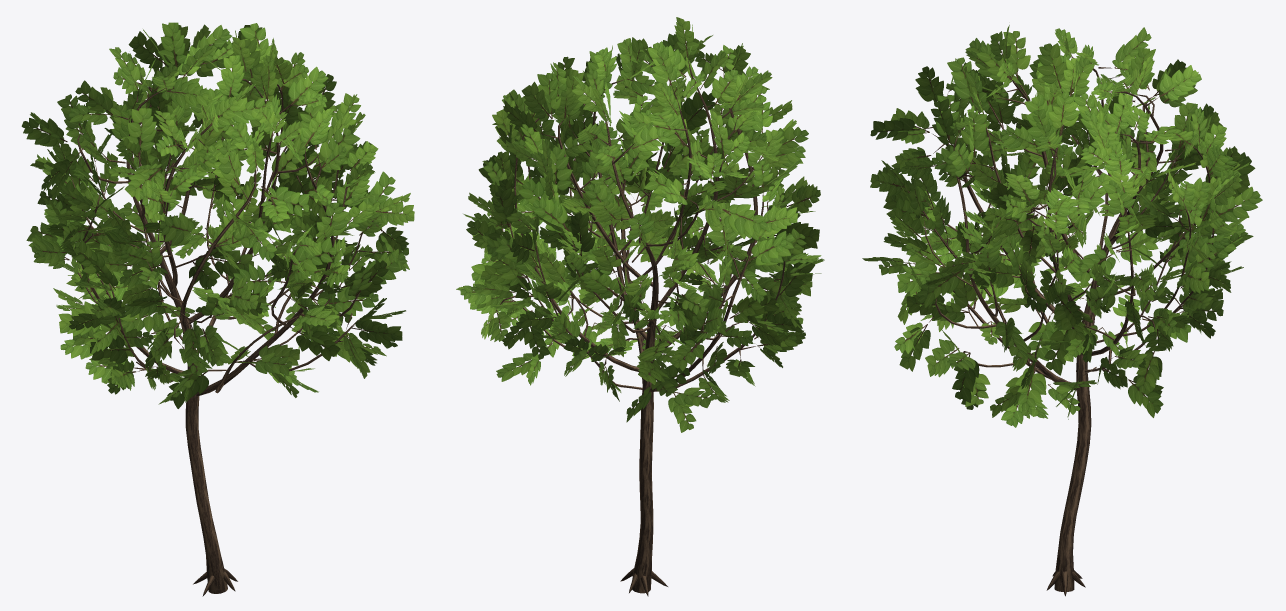
File: tree-oak-b.glb
3 renders of one model, left to right at view 1: azimuth 30°, elevation 25°; view 2: azimuth 150°, elevation 25°; view 3: azimuth 270°, elevation 25°, orthographic.
Parts seen in each view (by area): view 1: Tree_Oak_B; view 2: Tree_Oak_B; view 3: Tree_Oak_B.
Part boxes in pixels (x1=…): Tree_Oak_B: x1=21, y1=22, x2=414, y2=596; Tree_Oak_B: x1=456, y1=17, x2=824, y2=596; Tree_Oak_B: x1=862, y1=25, x2=1262, y2=596.
Bounding box in the file's own units: 8.3 × 13.24 × 8.86.
2 materials, 2 textured.
